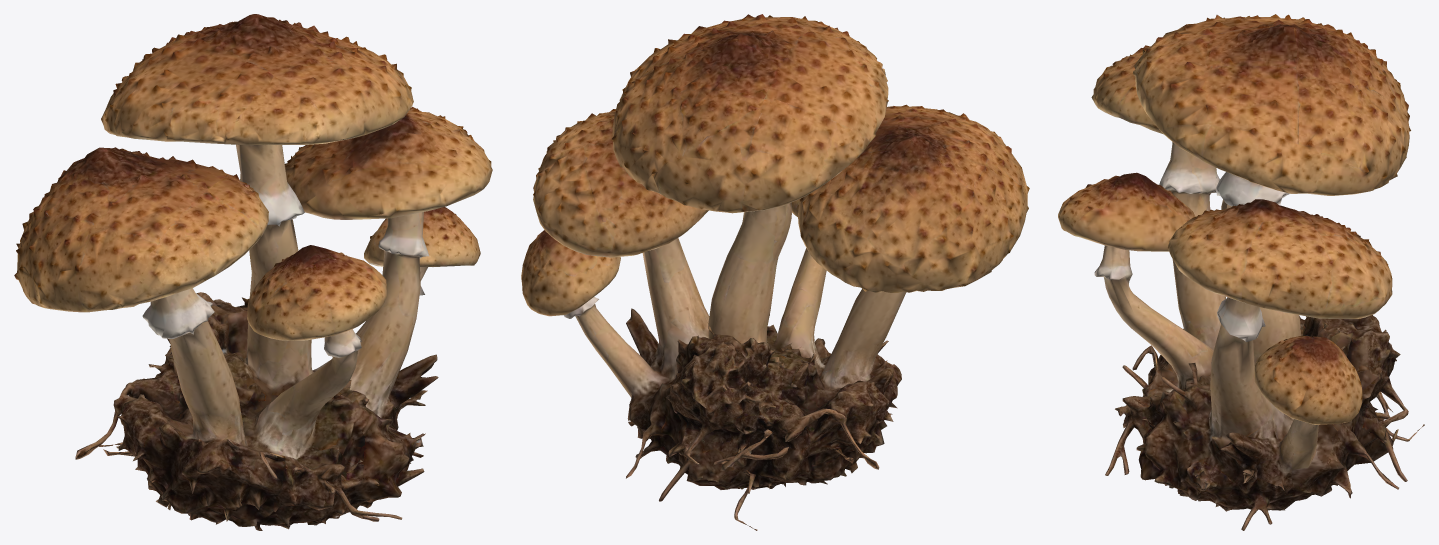
File: bal.glb
3 views of the same model, side by side, from view 1: azimuth 30°, elevation 25°; view 2: azimuth 150°, elevation 25°; view 3: azimuth 270°, elevation 25° (orthographic). The views are drawn at different scales.
Bounding box in the file's own units: 1.86 × 1.72 × 1.28.
Materials: 1 (1 with a texture image).
